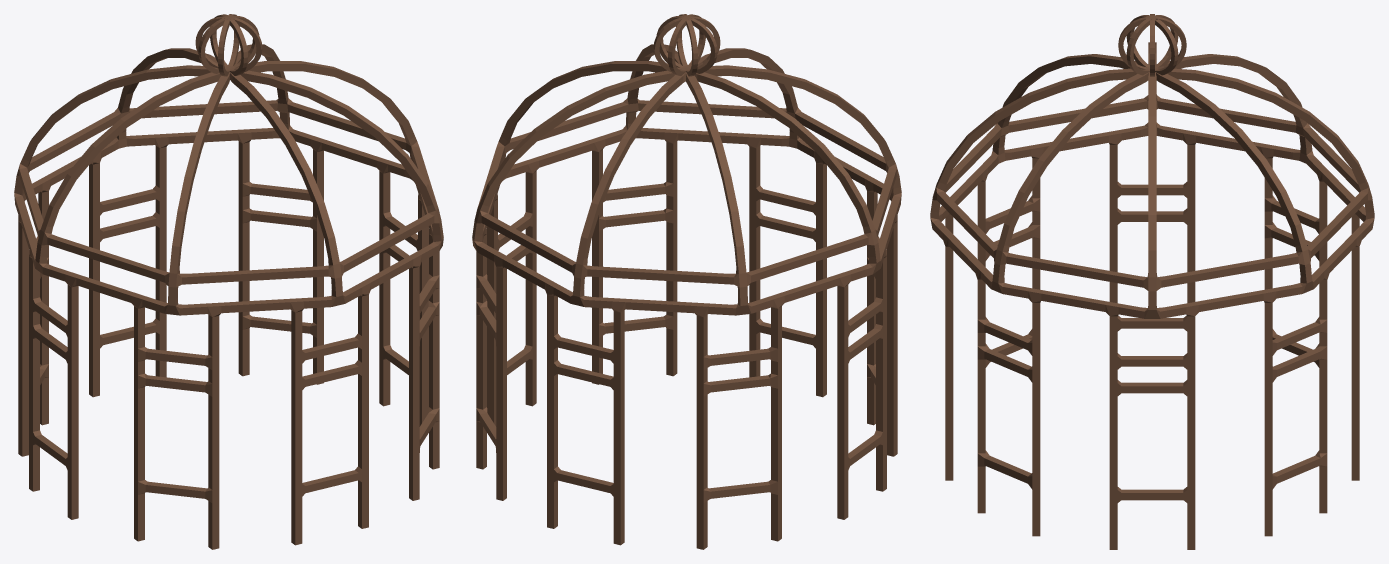
Rendered from pavillon.glb.
The picture shows the model from 3 angles, left to right: view 1: azimuth 30°, elevation 25°; view 2: azimuth 150°, elevation 25°; view 3: azimuth 270°, elevation 25°; orthographic projection.
Visible parts, largest first — view 1: pavillon; view 2: pavillon; view 3: pavillon.
Boxes of the visible parts, x1,y1,x2,y2 form: pavillon: [14, 14, 443, 549]; pavillon: [472, 14, 901, 549]; pavillon: [930, 14, 1374, 549].
Bounding box in the file's own units: 25.19 × 27.83 × 25.19.
